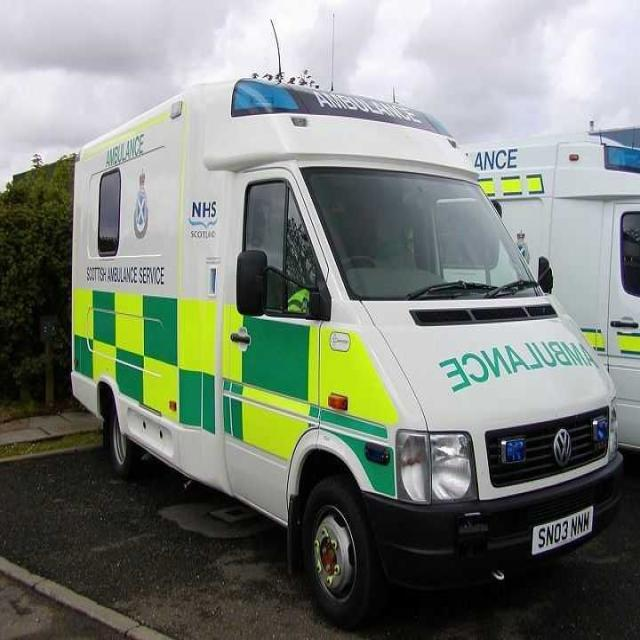ambulance: (74, 73, 627, 626), (458, 136, 640, 460)
